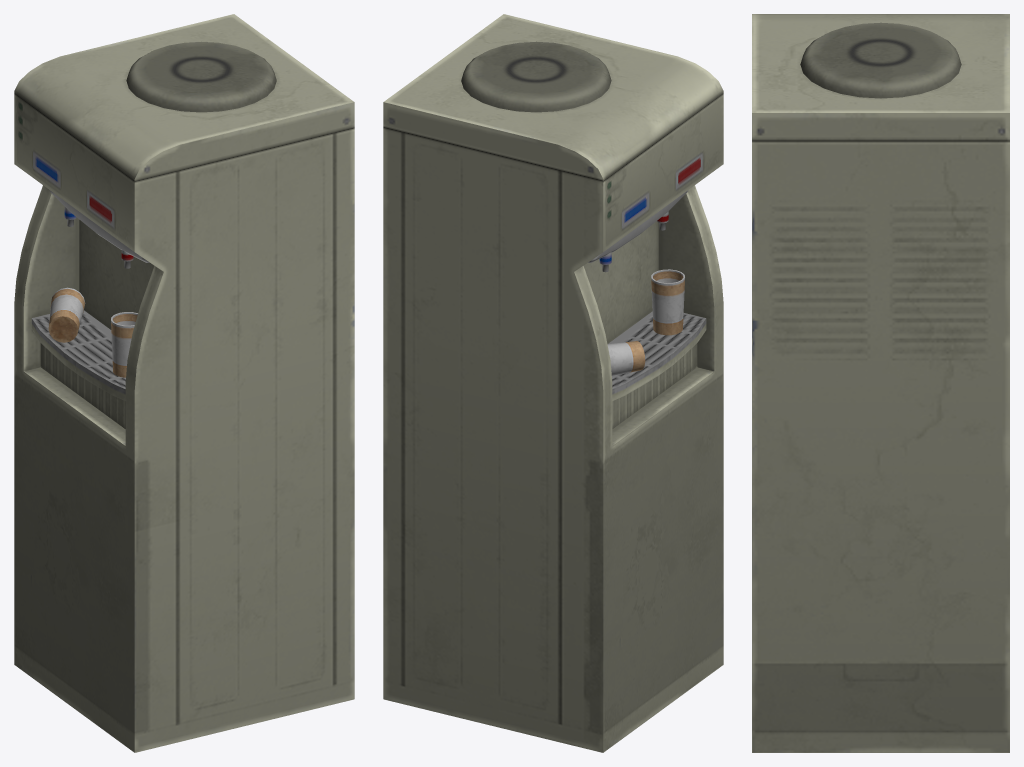
Rendered from HH_Cooler_01.fbx.
3 views of the same model, side by side, from view 1: azimuth 30°, elevation 25°; view 2: azimuth 150°, elevation 25°; view 3: azimuth 270°, elevation 25° (orthographic). The views are drawn at different scales.
Parts seen in each view (by area): view 1: HH_Cooler_01_LOD0; view 2: HH_Cooler_01_LOD0; view 3: HH_Cooler_01_LOD0.
Part boxes in pixels (left/top/right/bottom): HH_Cooler_01_LOD0: left=14, top=14, right=354, bottom=752; HH_Cooler_01_LOD0: left=383, top=14, right=723, bottom=752; HH_Cooler_01_LOD0: left=752, top=14, right=1009, bottom=752.
Size of what is drawn, in the model's own units: 38 by 98.72 by 35.41.
